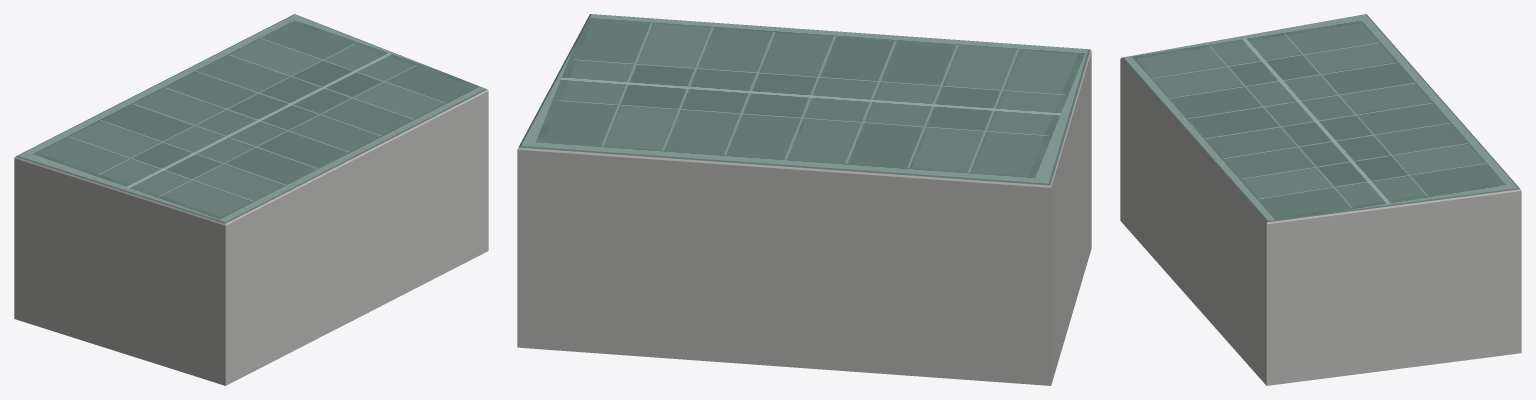
Rendered from fragments.glb.
3 renders of one model, left to right at view 1: azimuth 30°, elevation 25°; view 2: azimuth 150°, elevation 25°; view 3: azimuth 270°, elevation 25°, orthographic. The views are drawn at different scales.
Visible parts, largest first — view 1: SM_gh31_Fragment_024, SM_gh31_Fragment_000, SM_gh31_Fragment_005, SM_gh31_Fragment_039, SM_gh31_Fragment_021, SM_gh31_Fragment_034, SM_gh31_Fragment_048, SM_gh31_Fragment_014, SM_gh31_Fragment_060, SM_gh31_Fragment_007, SM_gh31_Fragment_053, SM_gh31_Fragment_031 (+23 smaller); view 2: SM_gh31_Fragment_056, SM_gh31_Fragment_030, SM_gh31_Fragment_029, SM_gh31_Fragment_017, SM_gh31_Fragment_058, SM_gh31_Fragment_031, SM_gh31_Fragment_002, SM_gh31_Fragment_006, SM_gh31_Fragment_057, SM_gh31_Fragment_016, SM_gh31_Fragment_018, SM_gh31_Fragment_022 (+24 smaller); view 3: SM_gh31_Fragment_010, SM_gh31_Fragment_041, SM_gh31_Fragment_016, SM_gh31_Fragment_003, SM_gh31_Fragment_042, SM_gh31_Fragment_043, SM_gh31_Fragment_060, SM_gh31_Fragment_033, SM_gh31_Fragment_037, SM_gh31_Fragment_022, SM_gh31_Fragment_055, SM_gh31_Fragment_000 (+24 smaller).
Part boxes in pixels (bbox=[...]): SM_gh31_Fragment_024: bbox=[99, 177, 195, 292]; SM_gh31_Fragment_000: bbox=[185, 184, 286, 274]; SM_gh31_Fragment_005: bbox=[14, 147, 109, 229]; SM_gh31_Fragment_039: bbox=[307, 195, 374, 323]; SM_gh31_Fragment_021: bbox=[276, 162, 355, 275]; SM_gh31_Fragment_034: bbox=[64, 224, 144, 327]; SM_gh31_Fragment_048: bbox=[149, 245, 272, 321]; SM_gh31_Fragment_014: bbox=[323, 118, 425, 203]; SM_gh31_Fragment_060: bbox=[418, 180, 488, 280]; SM_gh31_Fragment_007: bbox=[99, 291, 189, 374]; SM_gh31_Fragment_053: bbox=[184, 311, 266, 385]; SM_gh31_Fragment_031: bbox=[14, 185, 68, 287]; SM_gh31_Fragment_056: bbox=[568, 124, 732, 225]; SM_gh31_Fragment_030: bbox=[709, 145, 852, 293]; SM_gh31_Fragment_029: bbox=[520, 216, 668, 356]; SM_gh31_Fragment_017: bbox=[887, 145, 1019, 254]; SM_gh31_Fragment_058: bbox=[743, 135, 897, 246]; SM_gh31_Fragment_031: bbox=[963, 217, 1061, 346]; SM_gh31_Fragment_002: bbox=[847, 218, 967, 340]; SM_gh31_Fragment_006: bbox=[668, 268, 795, 367]; SM_gh31_Fragment_057: bbox=[791, 272, 921, 374]; SM_gh31_Fragment_016: bbox=[517, 116, 595, 269]; SM_gh31_Fragment_018: bbox=[620, 204, 721, 315]; SM_gh31_Fragment_022: bbox=[804, 90, 940, 150]; SM_gh31_Fragment_010: bbox=[1391, 204, 1479, 308]; SM_gh31_Fragment_041: bbox=[1313, 229, 1395, 321]; SM_gh31_Fragment_016: bbox=[1460, 172, 1521, 288]; SM_gh31_Fragment_003: bbox=[1243, 197, 1316, 321]; SM_gh31_Fragment_042: bbox=[1261, 189, 1375, 261]; SM_gh31_Fragment_043: bbox=[1373, 306, 1461, 371]; SM_gh31_Fragment_060: bbox=[1227, 279, 1306, 385]; SM_gh31_Fragment_033: bbox=[1280, 319, 1375, 384]; SM_gh31_Fragment_037: bbox=[1188, 94, 1303, 142]; SM_gh31_Fragment_022: bbox=[1266, 67, 1379, 118]; SM_gh31_Fragment_055: bbox=[1461, 289, 1521, 360]; SM_gh31_Fragment_000: bbox=[1120, 49, 1194, 137].
Bounding box in the file's own units: 2.2 × 0.807 × 1.78.
Materials: 4 (1 with a texture image).
